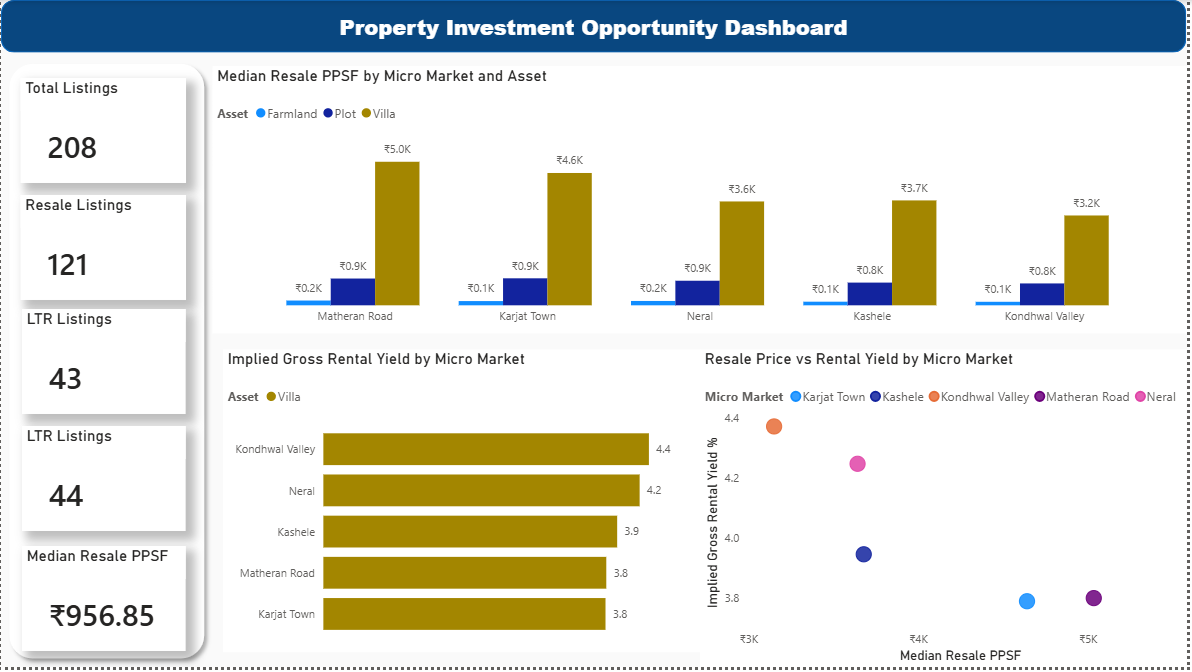

The page's visual inventory and layout, read from the dashboard file:
{"tool":"powerbi","page":{"name":"Property Market Opportunity","canvas":[1280,720],"ordinal":0},"visuals":[{"type":"shape","box":[0,0,1279.4,56.7],"z":0},{"type":"clusteredColumnChart","title":"Median Resale PPSF by Micro Market and Asset","fields":{"Category":["MAIN.Micro Market"],"Series":["MAIN.Asset"],"Y":["Sum(MAIN.Median Resale PPSF)"]},"box":[228.3,71.7,1051.7,288.3],"z":1000},{"type":"barChart","title":"Implied Gross Rental Yield by Micro Market","fields":{"Category":["MAIN.Micro Market"],"Y":["Sum(MAIN.Implied Gross Rental Yield %)"],"Series":["MAIN.Asset"]},"box":[240,376.7,515,326.7],"z":2000},{"type":"shape","box":[0,60,228.3,660],"z":3000},{"type":"cardVisual","title":"Total Listings","fields":{"Data":["MAIN.to0tal listing"]},"box":[21.7,85,178.3,113.3],"z":4000},{"type":"cardVisual","title":" Resale Listings","fields":{"Data":["MAIN.Resale Listings"]},"box":[21.7,210,178.3,113.3],"z":5000},{"type":"cardVisual","title":" LTR Listings","fields":{"Data":["MAIN.LTR Listings"]},"box":[23.3,333.3,176.7,113.3],"z":6000},{"type":"cardVisual","title":" LTR Listings","fields":{"Data":["MAIN.STR Listings"]},"box":[23.3,460,176.7,113.3],"z":7000},{"type":"cardVisual","title":"Median Resale PPSF","fields":{"Data":["MAIN.Mmmedian Resale PPSF"]},"box":[23.3,590,176.7,113.3],"z":8000},{"type":"scatterChart","title":"Resale Price vs Rental Yield by Micro Market","fields":{"X":["MAIN.Median Resale PPSF"],"Y":["MAIN.Implied Gross Rental Yield %"],"Series":["MAIN.Micro Market"]},"box":[755,376.7,525,343.3],"z":9000}]}

Visuals, with their boxes in screenshot pixels (x1, y1, x2, y2), scaled from the page's 1280x720 canvas onto the 1192x672 screenshot:
shape: <region>0, 0, 1191, 53</region>
"Median Resale PPSF by Micro Market and Asset" clusteredColumnChart: <region>213, 67, 1191, 336</region>
"Implied Gross Rental Yield by Micro Market" barChart: <region>224, 352, 703, 657</region>
shape: <region>0, 56, 213, 671</region>
"Total Listings" cardVisual: <region>20, 79, 186, 185</region>
" Resale Listings" cardVisual: <region>20, 196, 186, 302</region>
" LTR Listings" cardVisual: <region>22, 311, 186, 417</region>
" LTR Listings" cardVisual: <region>22, 429, 186, 535</region>
"Median Resale PPSF" cardVisual: <region>22, 551, 186, 656</region>
"Resale Price vs Rental Yield by Micro Market" scatterChart: <region>703, 352, 1191, 671</region>
